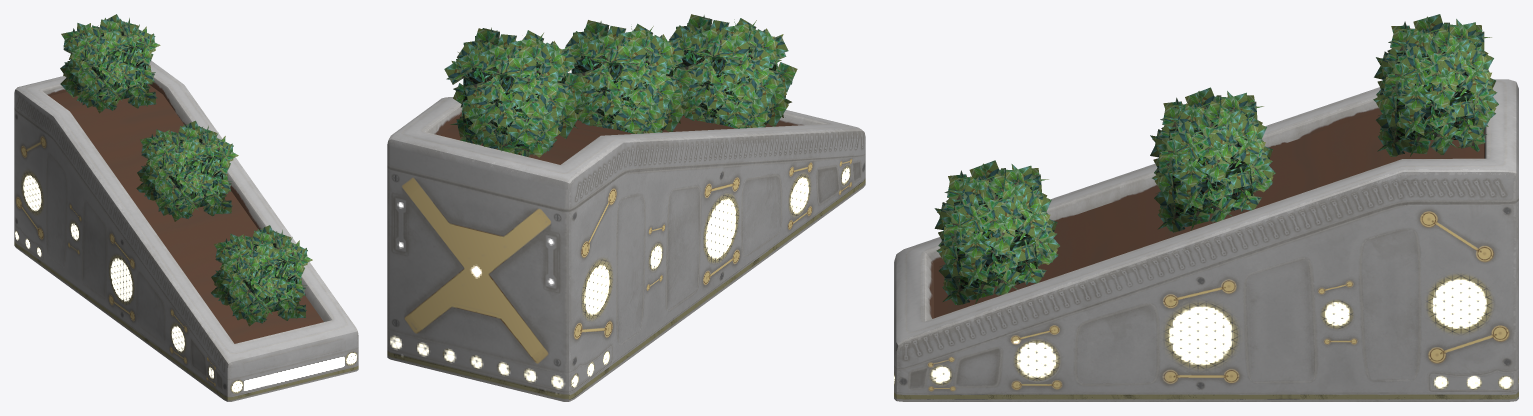
The model's file is garden1.glb.
3 views of the same model, side by side, from view 1: azimuth 30°, elevation 25°; view 2: azimuth 150°, elevation 25°; view 3: azimuth 270°, elevation 25° (orthographic). The views are drawn at different scales.
Parts seen in each view (by area): view 1: Final_Baked061, HedgeSmall002; view 2: Final_Baked061, HedgeSmall002; view 3: Final_Baked061, HedgeSmall002.
Boxes of the visible parts, box(x1,y1,x2,y2) form: Final_Baked061: box(14, 60, 358, 401); HedgeSmall002: box(60, 14, 312, 326); Final_Baked061: box(387, 97, 865, 401); HedgeSmall002: box(444, 14, 797, 157); Final_Baked061: box(894, 79, 1518, 401); HedgeSmall002: box(934, 14, 1498, 305).
Bounding box in the file's own units: 1.16 × 1.86 × 3.26.
Materials: 2 (2 with a texture image).
